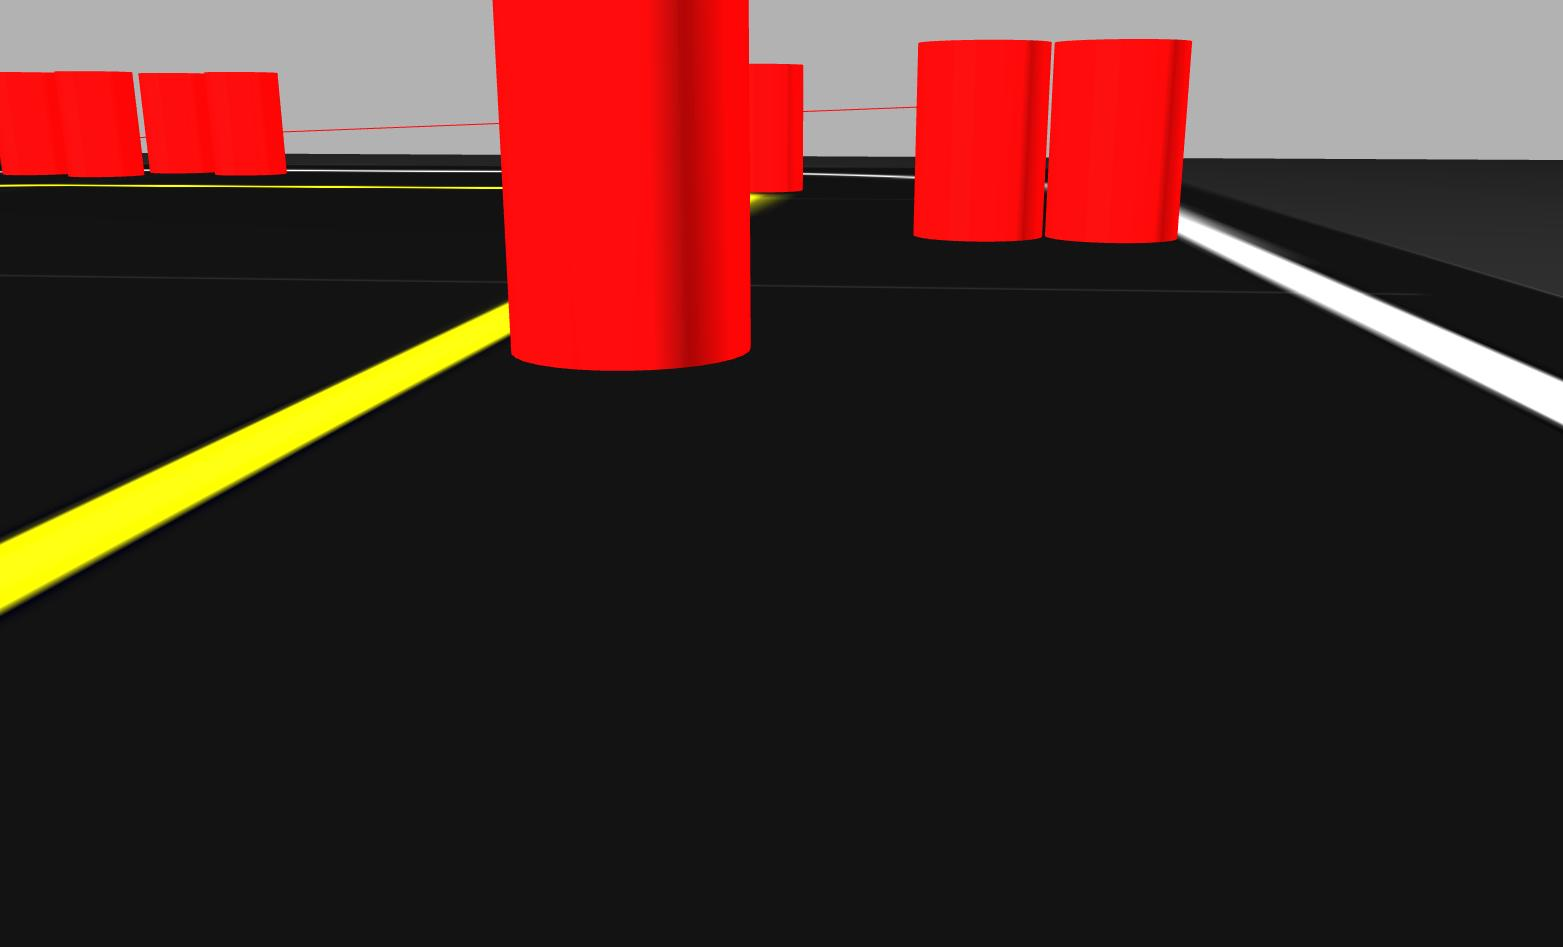obstacle: (486, 1, 754, 373), (902, 31, 1056, 247), (1041, 36, 1192, 247), (51, 59, 152, 184), (204, 64, 293, 181), (141, 65, 218, 185), (748, 57, 808, 197), (3, 70, 59, 182)
